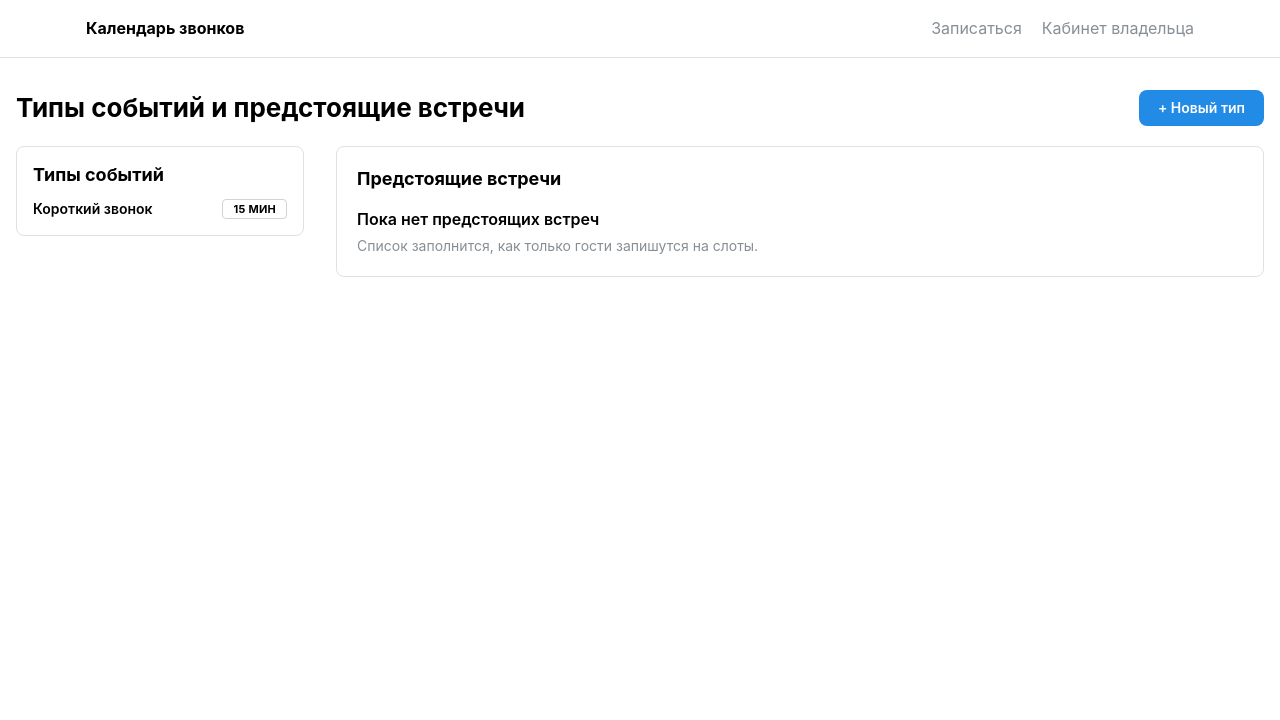
Test: /admin: создание типа события › подсказывает об ошибке поля до отправки, не отправляя запрос
Click the button "+ Новый тип" at (1201, 108), box [1139,90,1264,126]
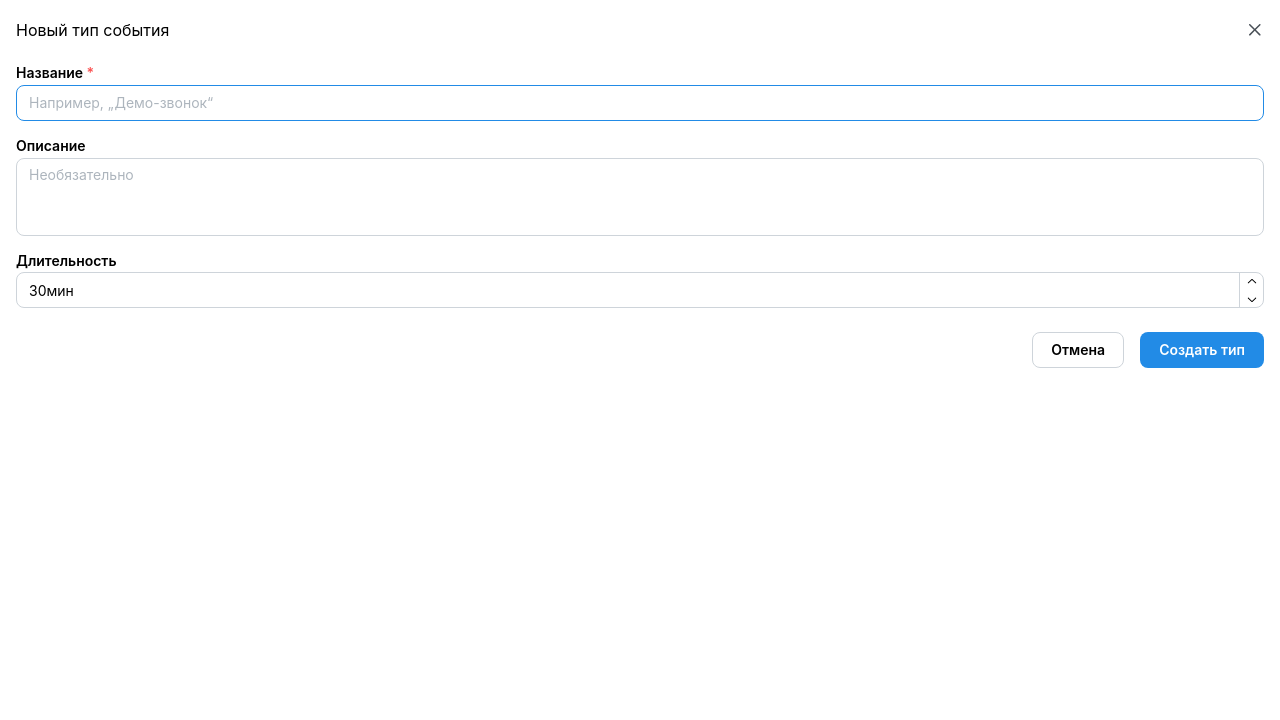
Click the button "Создать тип" at (1202, 350), box [1140,332,1264,368]
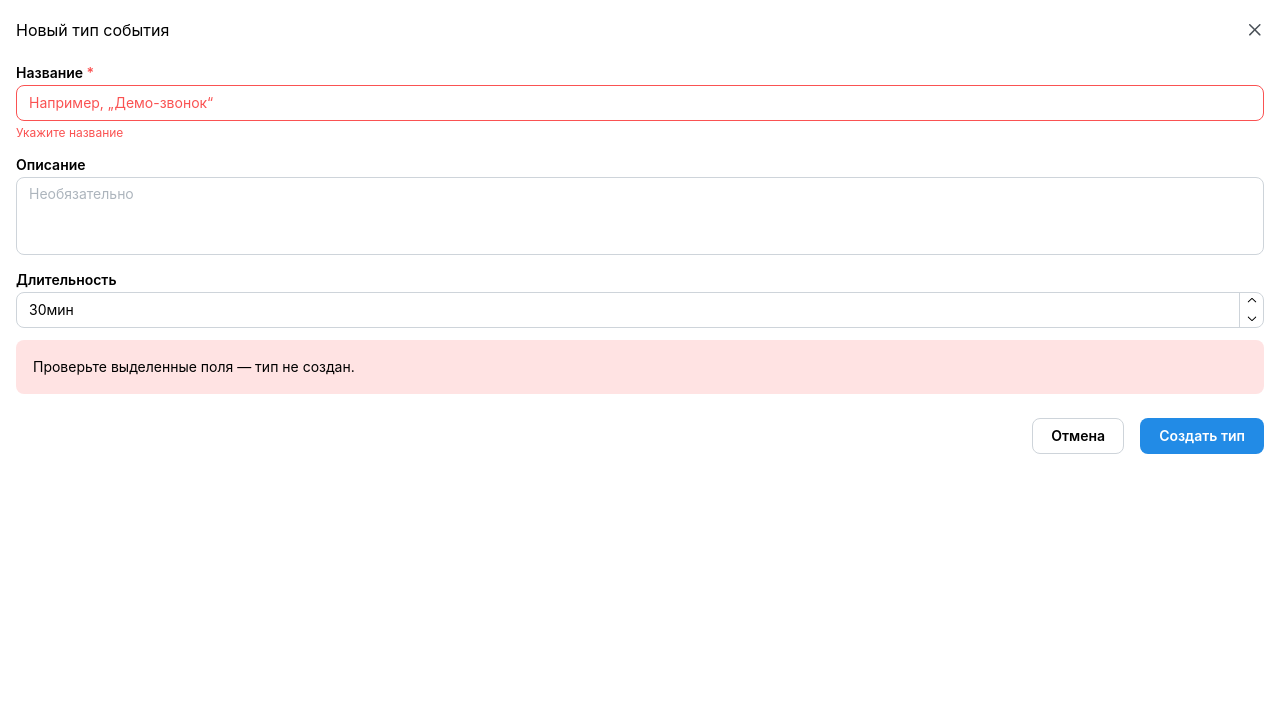
expect the text "Укажите название" is shown: met, box [16,125,123,140]
expect the message reads "Проверьте выделенные поля — тип не создан.": met, box [33,358,355,375]
